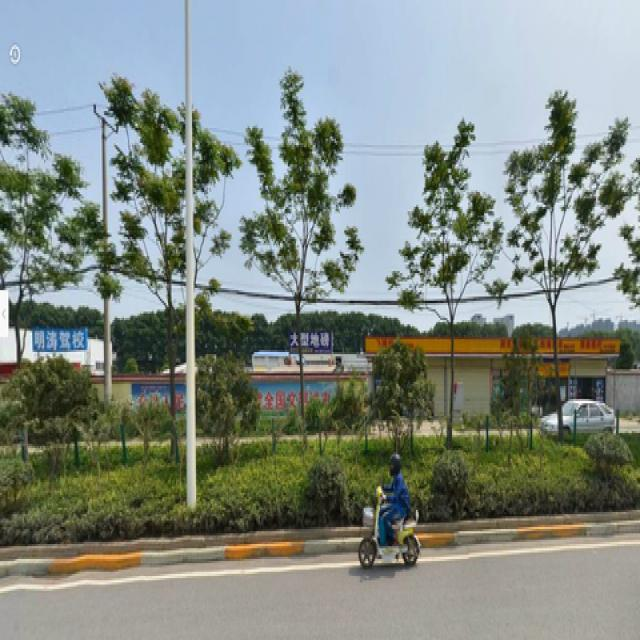koel: (497, 102, 627, 433), (248, 72, 356, 422)
